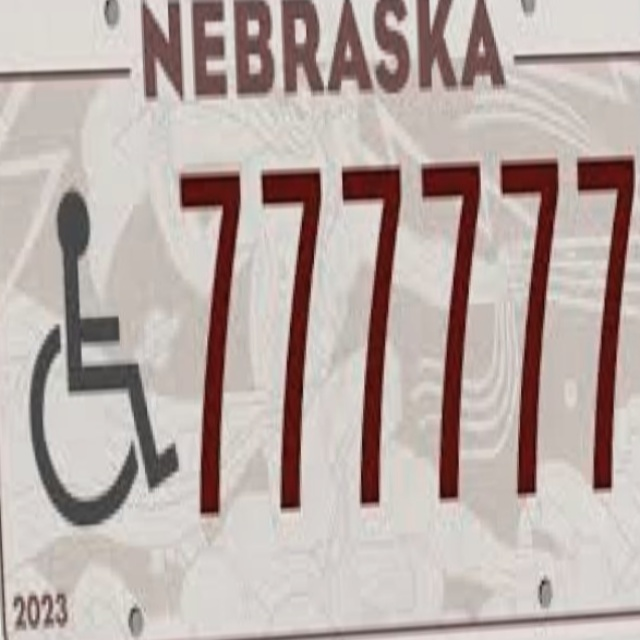ISA: (21, 185, 183, 539)
